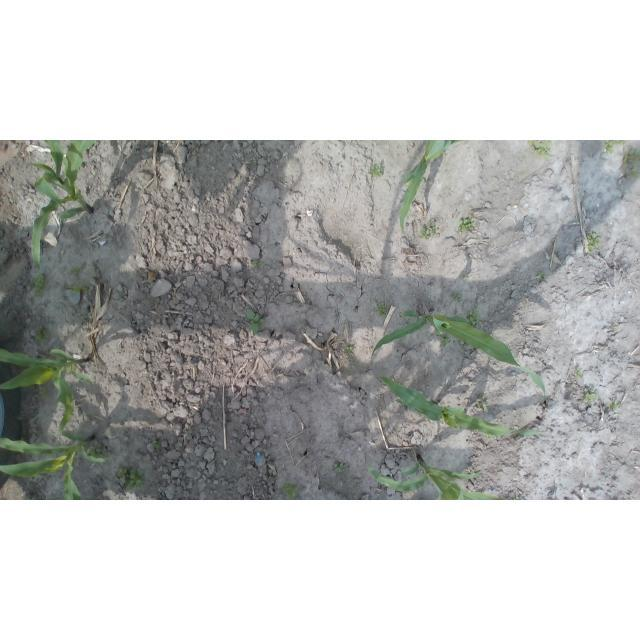Maize: (371, 309, 549, 406), (373, 373, 545, 439), (29, 140, 96, 272), (0, 345, 90, 437), (0, 428, 112, 500), (363, 451, 505, 500), (400, 140, 460, 242)
Weeds: (116, 466, 144, 490), (526, 140, 553, 160), (29, 274, 50, 299), (245, 309, 264, 334), (33, 325, 51, 347), (456, 216, 476, 233), (603, 140, 628, 153), (622, 147, 640, 165), (585, 232, 599, 255), (420, 220, 436, 240), (283, 480, 299, 500), (86, 443, 106, 458), (583, 386, 597, 404), (467, 309, 480, 328), (39, 385, 54, 400), (370, 163, 383, 178), (375, 301, 387, 315), (625, 169, 640, 180), (439, 334, 451, 347), (69, 265, 83, 276), (607, 400, 619, 412), (478, 401, 489, 413), (71, 285, 85, 294), (453, 293, 464, 303), (334, 461, 343, 471), (343, 346, 353, 355), (253, 260, 262, 269), (536, 270, 544, 280), (574, 370, 584, 378), (152, 440, 161, 448), (460, 340, 469, 348), (461, 272, 469, 281), (513, 496, 523, 500), (612, 326, 617, 331), (479, 395, 485, 399)
